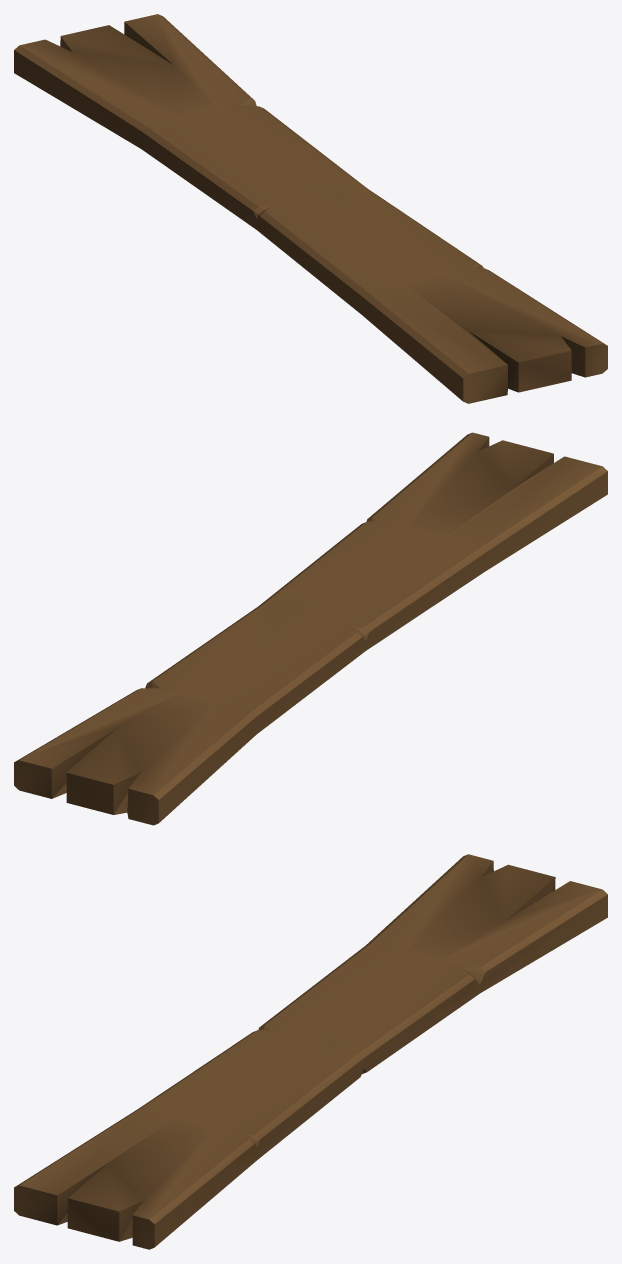
Rendered from obj_woodPiece_A.FBX.
3 views of the same model, one above another, from view 1: azimuth 30°, elevation 25°; view 2: azimuth 150°, elevation 25°; view 3: azimuth 330°, elevation 25° (orthographic).
Parts seen in each view (by area): view 1: obj_woodPiece_A; view 2: obj_woodPiece_A; view 3: obj_woodPiece_A.
Part boxes in pixels (x1=…): obj_woodPiece_A: x1=14, y1=14, x2=607, y2=403; obj_woodPiece_A: x1=14, y1=432, x2=607, y2=825; obj_woodPiece_A: x1=14, y1=854, x2=607, y2=1249.
Size of the model in its own units: 0.843 by 0.1721 by 4.49.
